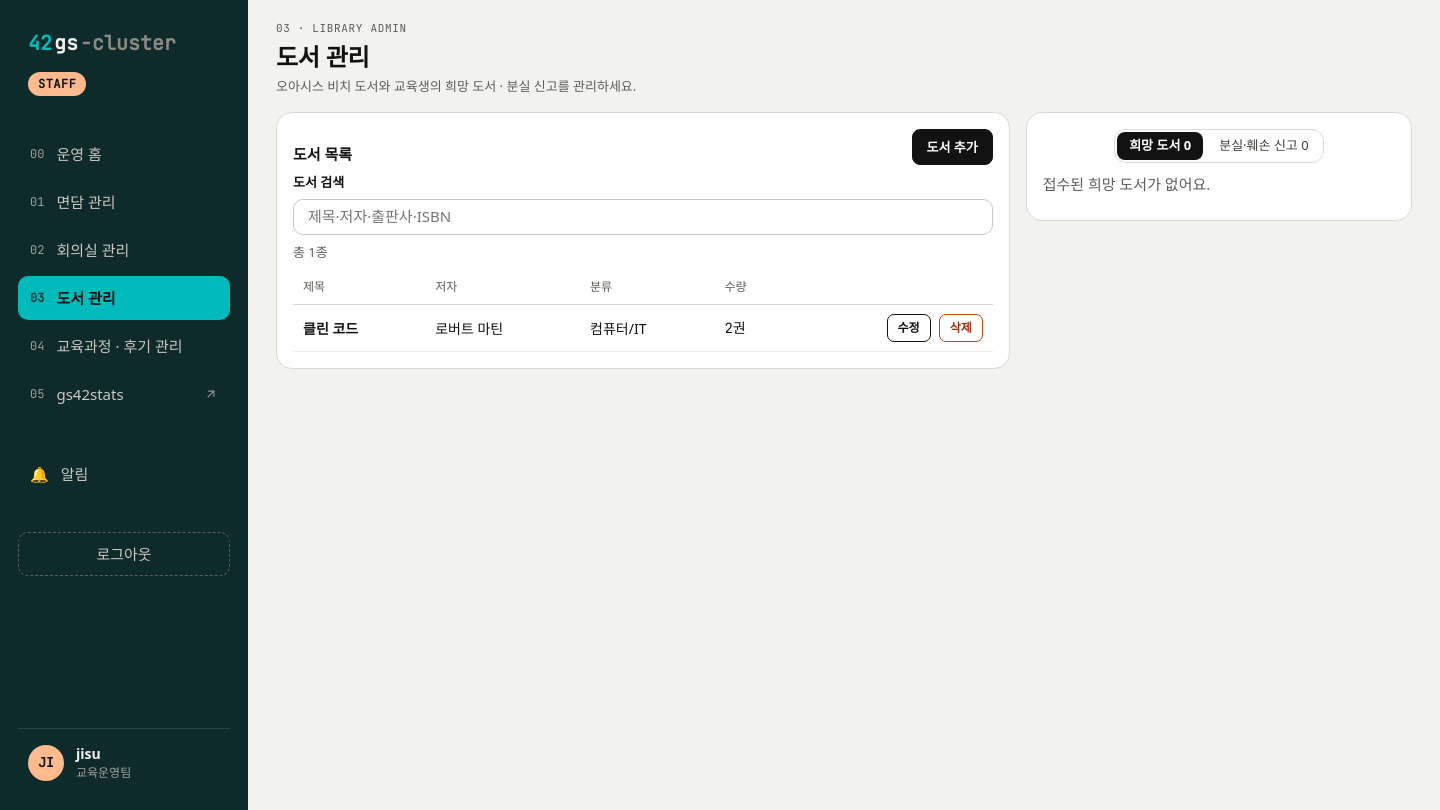
Scenario: 운영 도서 관리 화면 › 중복 코드 오류를 안내한다
Expected: the heading "도서 관리" is shown, [276,40,369,72]
Click the button "도서 추가" at (952, 147), box [912,129,993,165]
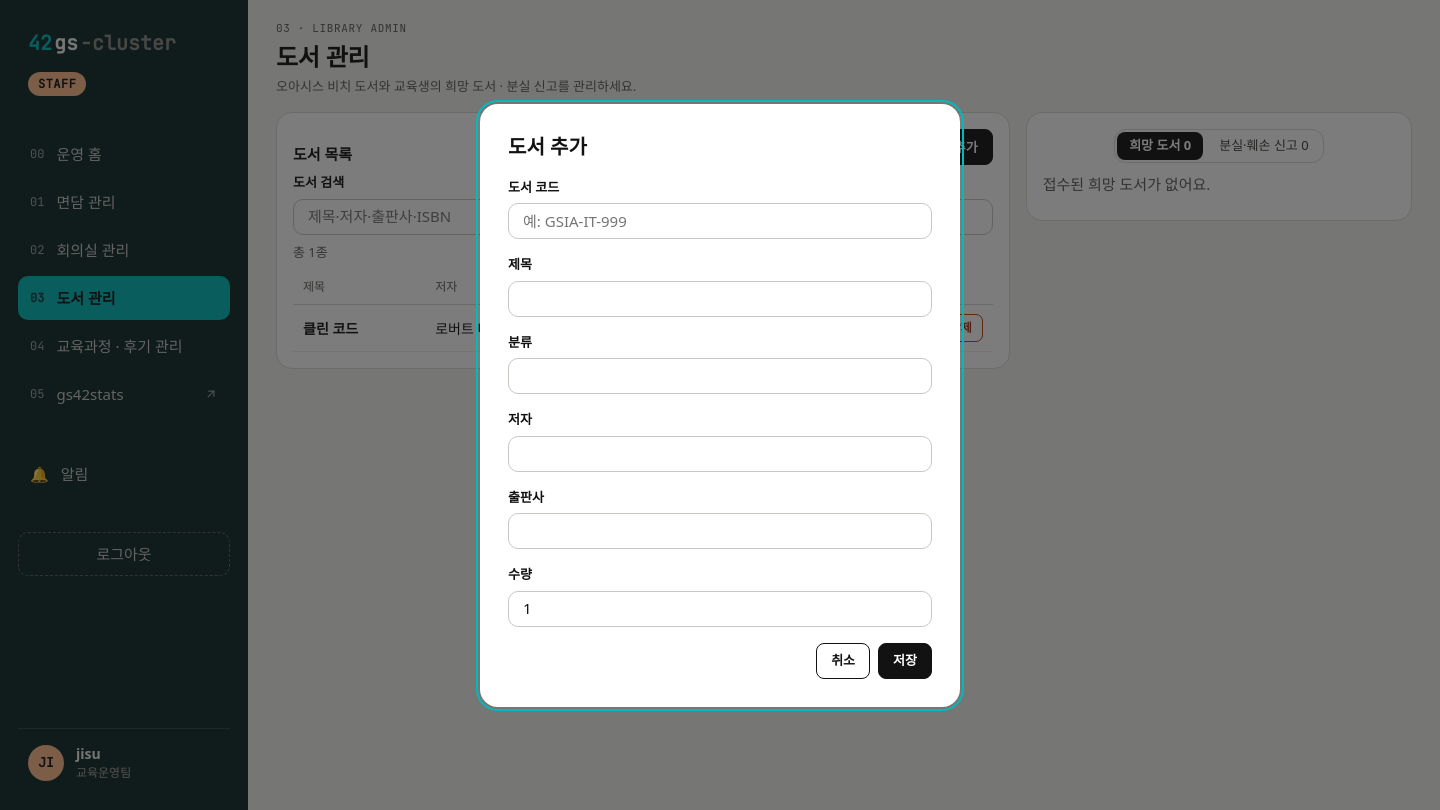
Type "B-1" into the field labelled "도서 코드" at (720, 221), box [508,203,932,239]
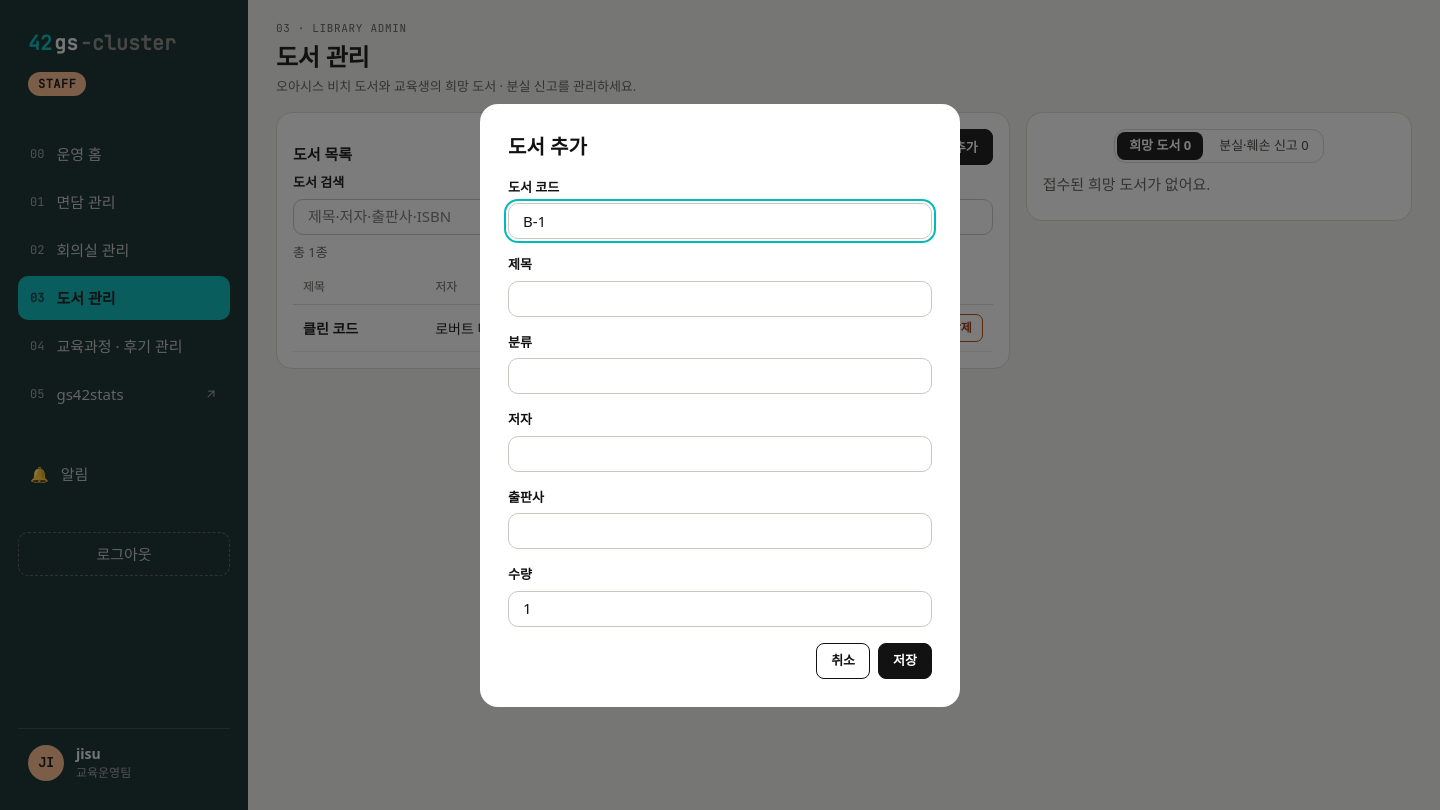
Type "클린 코드" into the field labelled "제목" at (720, 298), box [508,280,932,316]
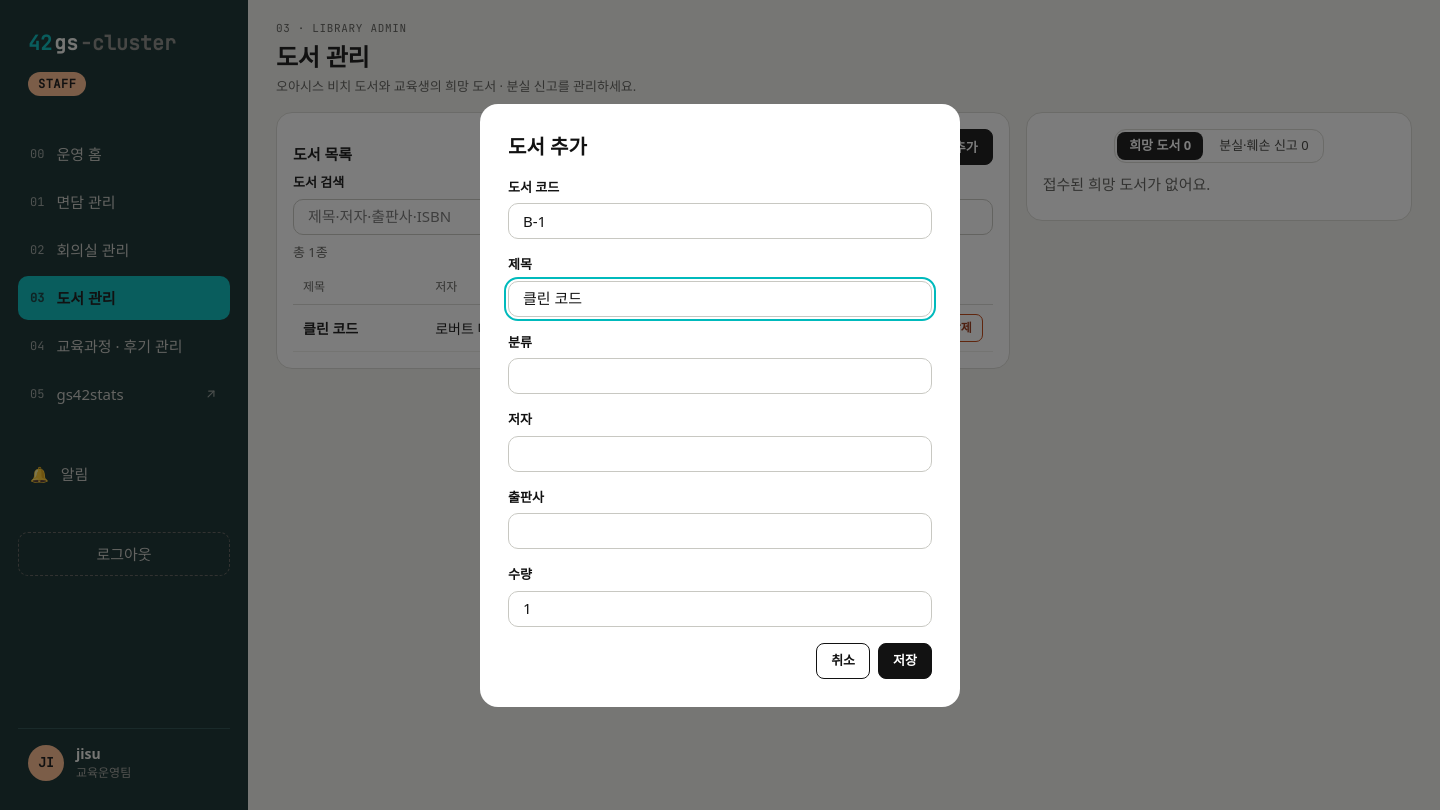
Type "컴퓨터/IT" into the field labelled "분류" at (720, 376), box [508,358,932,394]
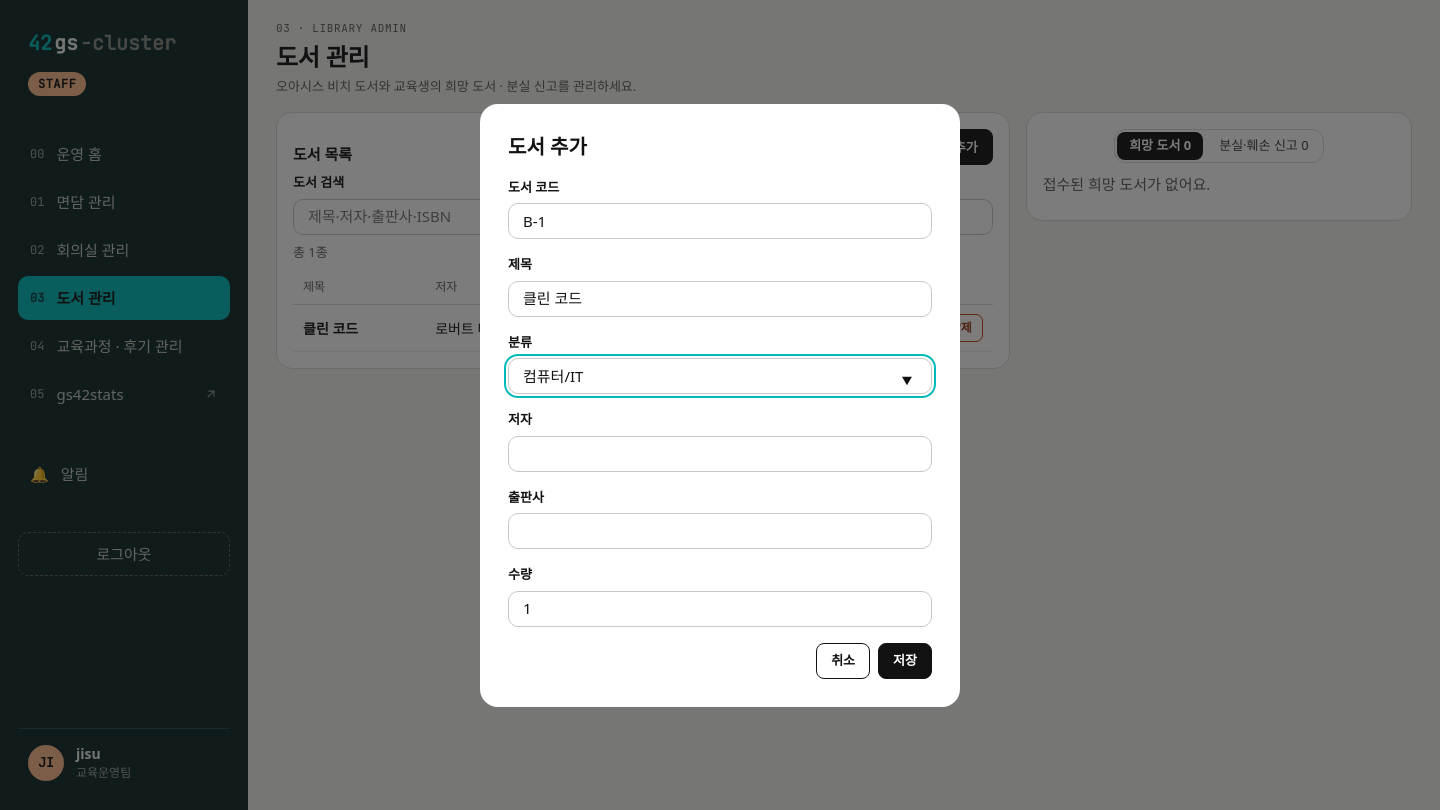
Click the button "저장" at (905, 660), box [878,642,932,678]
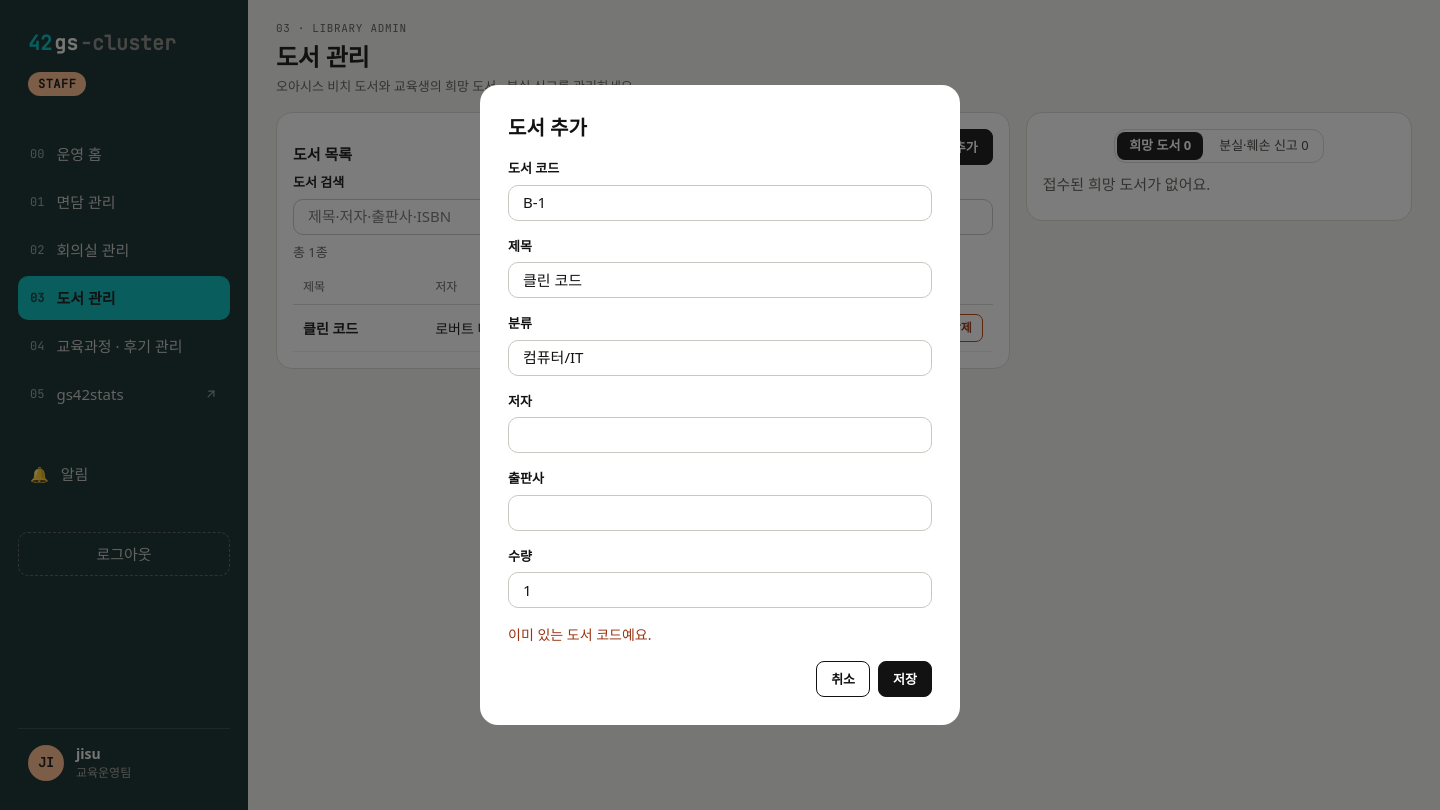
Expected: the message reads "이미 있는 도서 코드예요.", [508,625,652,644]
